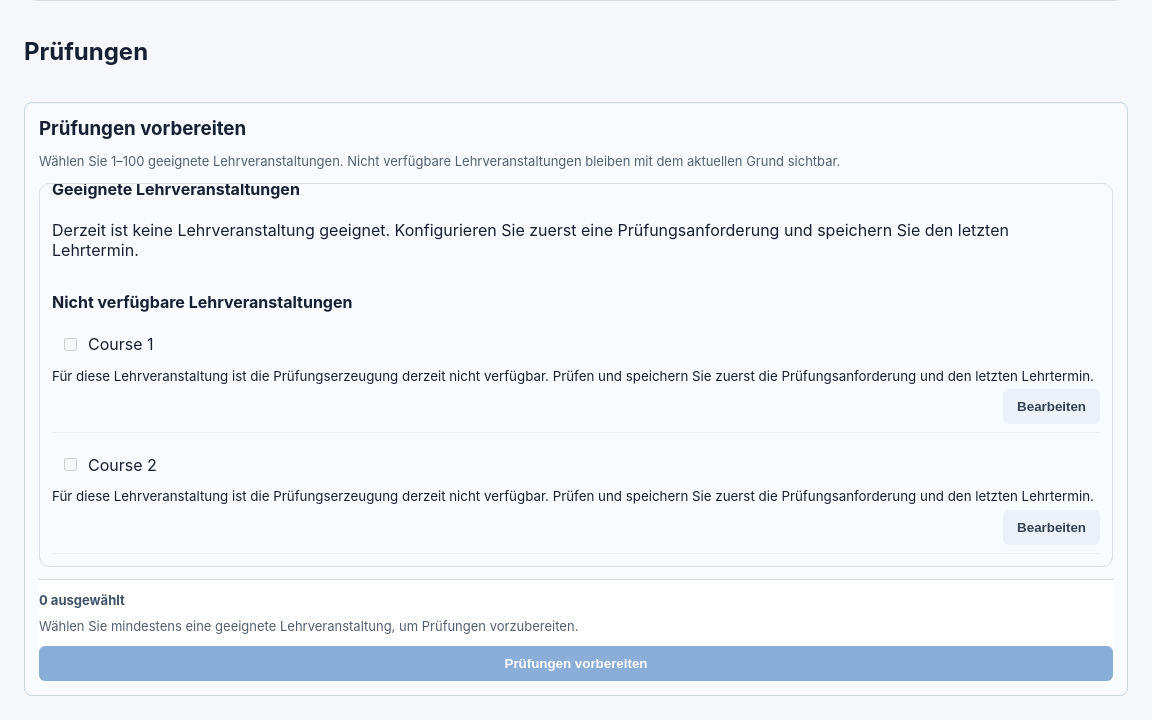
Scenario: CourseSchedulePage multi-course mode › opens the selected course requirement from the exams overview
The width and height of the screenshot is (1152, 720).
(page scrolled)
Click the 2nd button "Bearbeiten": (1052,528) [1003, 510, 1100, 545]
(page scrolled)
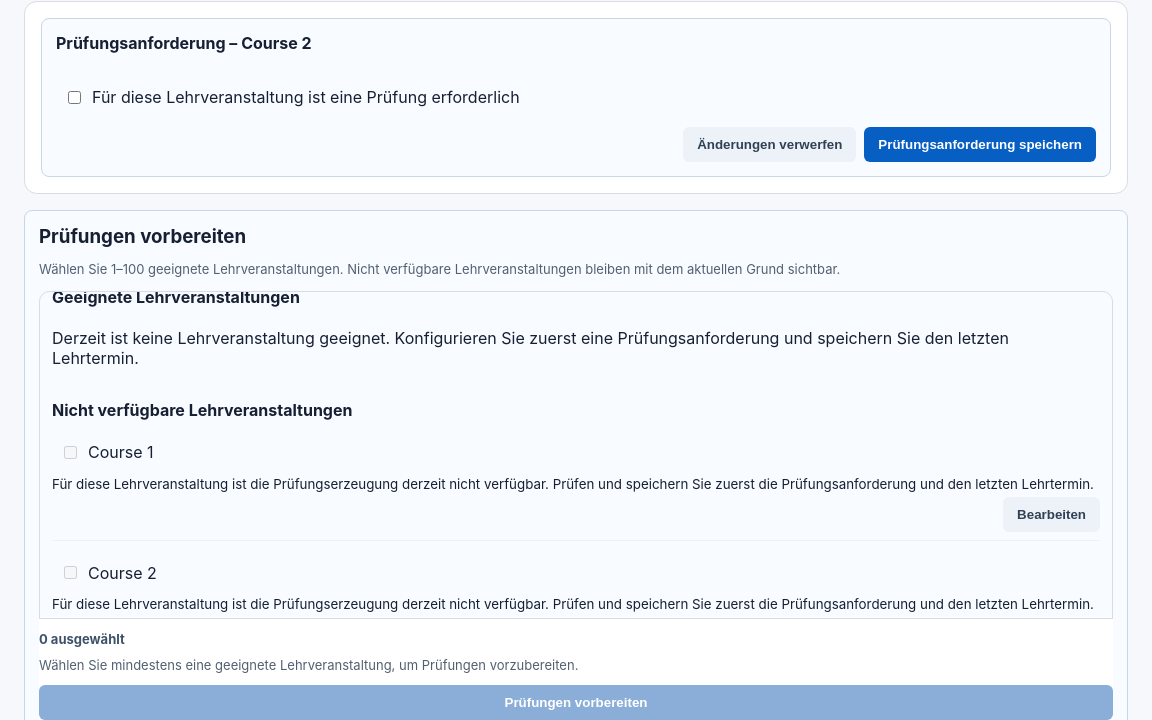
Check: the heading with id "exam-overview-requirement-title" reads "Prüfungsanforderung – Course 2", box [56, 33, 312, 53]
